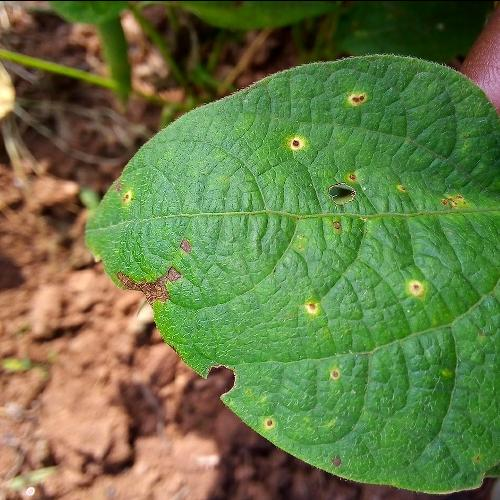hawar: (103, 198, 210, 334)
mozaik: (182, 348, 268, 432), (309, 152, 374, 226)
